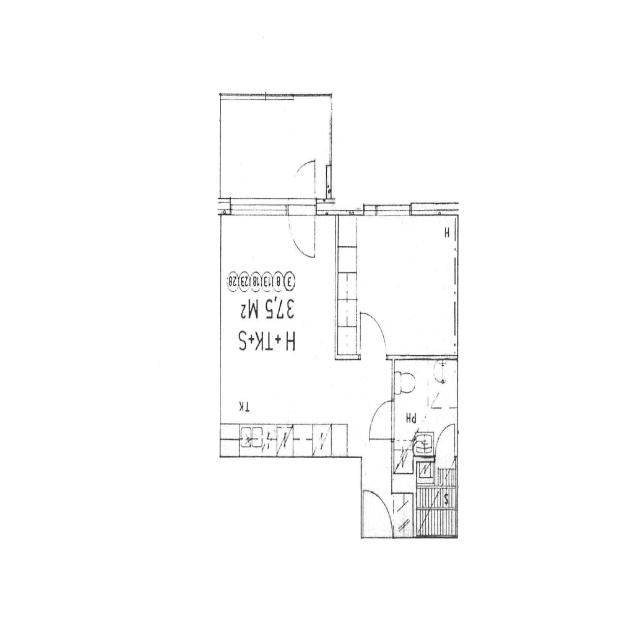door: (287, 167, 319, 264), (357, 304, 391, 360), (362, 485, 394, 540), (367, 397, 394, 442), (434, 422, 457, 461)
window: (226, 193, 288, 222), (369, 198, 412, 221)
zone: (220, 210, 345, 456), (343, 210, 457, 356), (389, 358, 457, 463), (414, 459, 436, 487)
